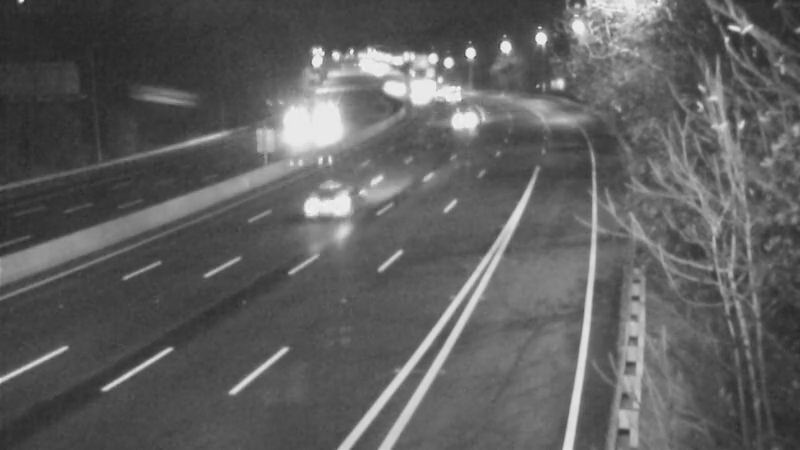vehicle: (293, 167, 373, 247), (375, 65, 425, 115), (433, 67, 483, 117), (396, 74, 446, 124), (441, 88, 491, 138), (270, 96, 320, 146), (302, 93, 352, 143)
